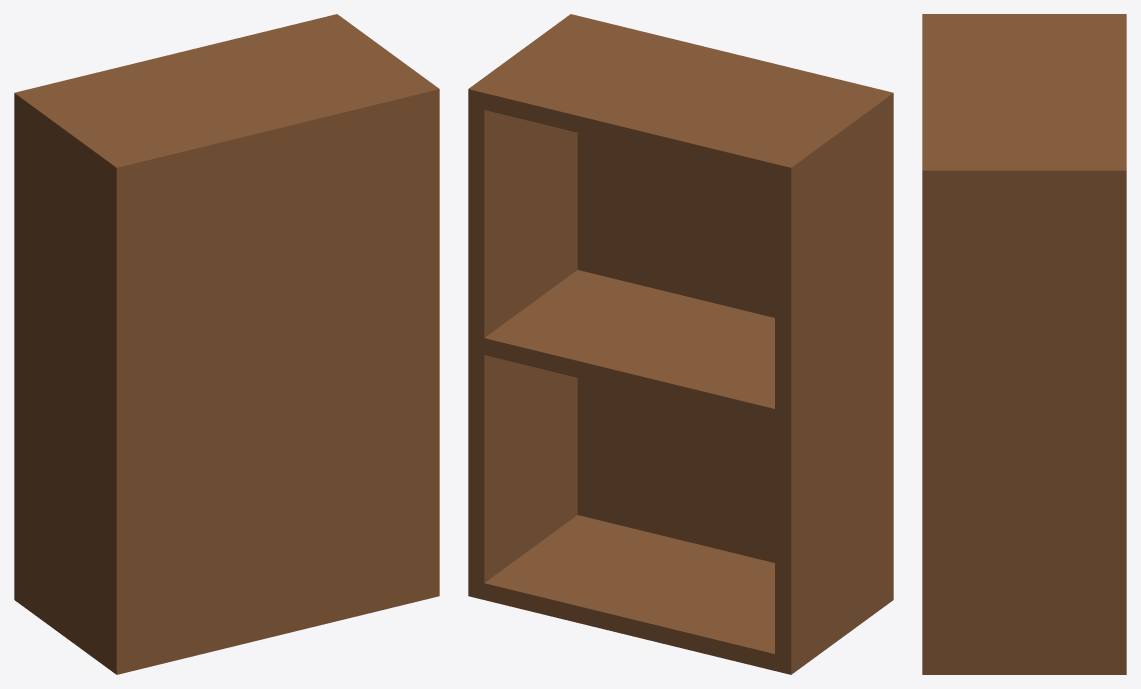
The model's file is parametric-wall-shelf-1st-0400x0220x0600.glb.
The picture shows the model from 3 angles, left to right: view 1: azimuth 30°, elevation 25°; view 2: azimuth 150°, elevation 25°; view 3: azimuth 270°, elevation 25°; orthographic projection.
Parts seen in each view (by area): view 1: backboard, end:-1, top, end:1; view 2: backboard, end:-1, end:1, top, shelf, bottom; view 3: end:1, top, backboard, end:-1.
Boxes of the visible parts, x1,y1,x2,y2 form: backboard: (107, 82, 439, 674); end:-1: (14, 89, 122, 667); top: (31, 18, 413, 156); end:1: (321, 14, 429, 85); backboard: (561, 14, 893, 606); end:-1: (775, 95, 884, 674); end:1: (468, 21, 577, 599); top: (484, 25, 867, 180); shelf: (484, 270, 774, 425); bottom: (484, 515, 774, 670); end:1: (941, 163, 1126, 674); top: (941, 22, 1126, 162); backboard: (922, 14, 940, 674); end:-1: (941, 14, 1126, 21).
Bounding box in the file's own units: 0.4 × 0.6 × 0.22.
